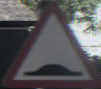Speed Breaker ahead: (4, 7, 89, 80)
